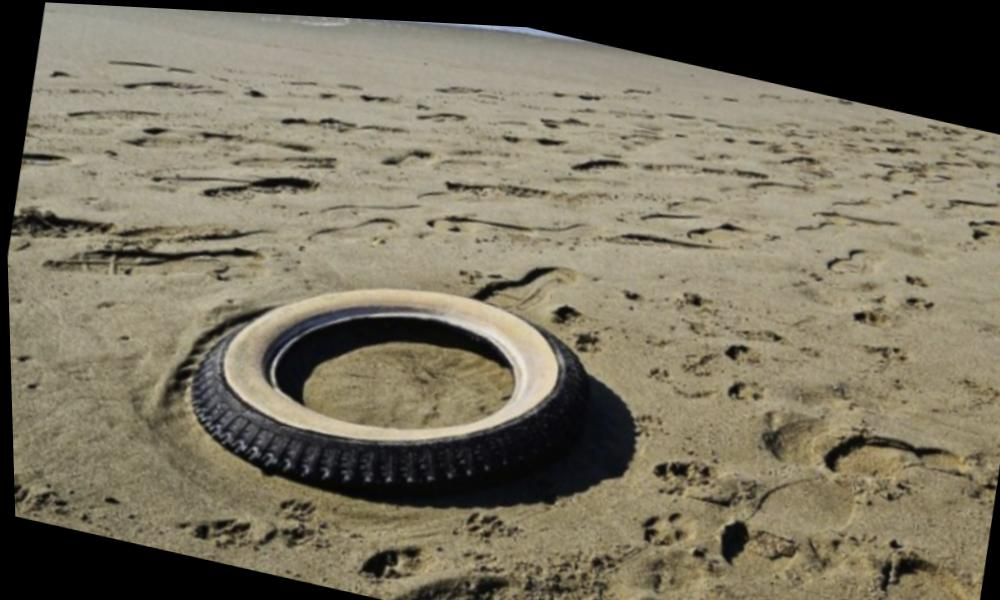tire: (171, 237, 607, 541)
